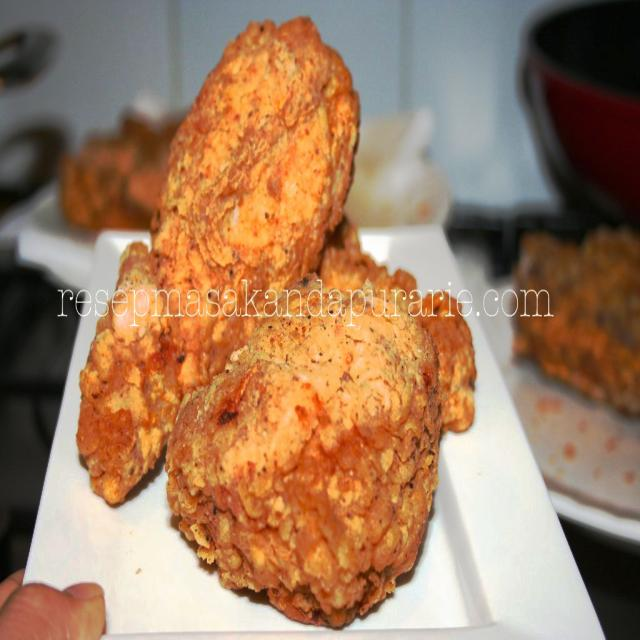fried_chicken: (72, 26, 359, 507), (174, 256, 477, 629)
